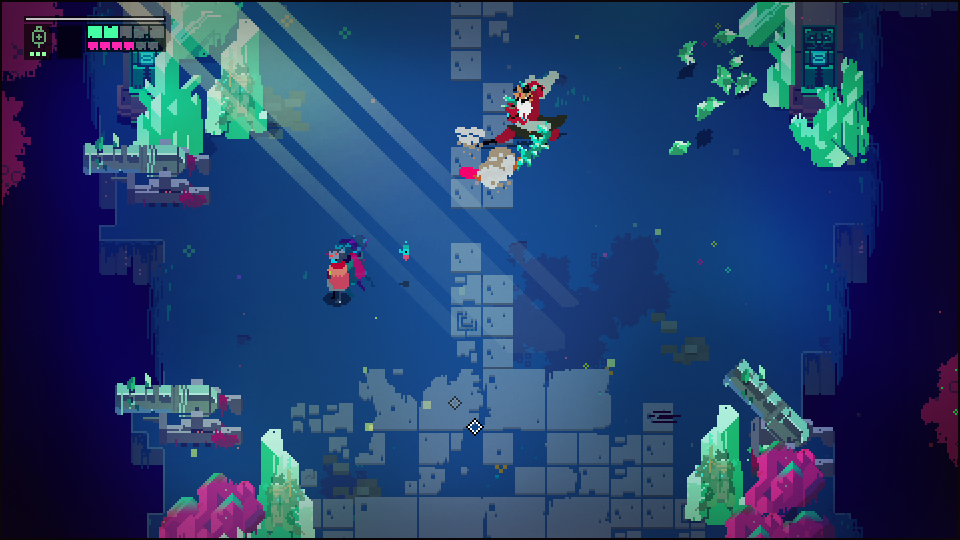hanged_man: (477, 66, 564, 178)
player: (325, 243, 351, 306)
